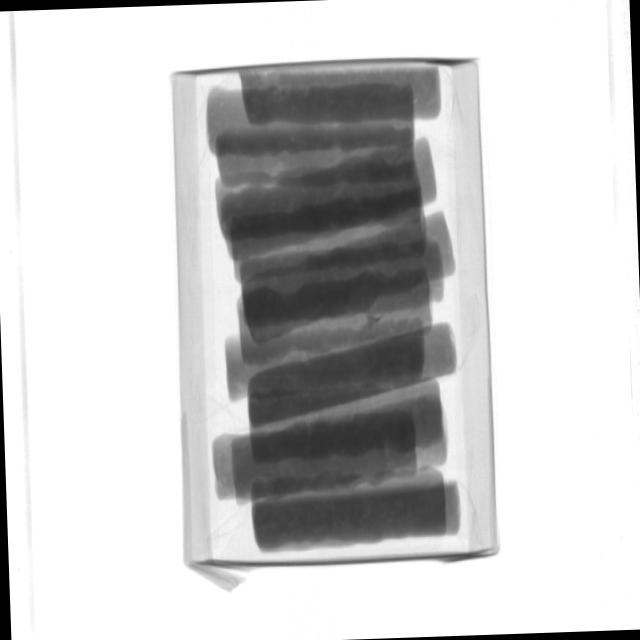ym: (365, 309, 386, 333)
